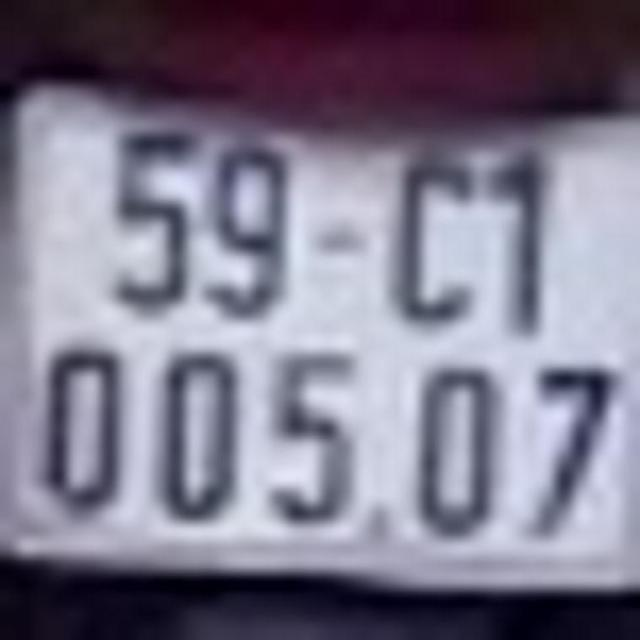0: (152, 342, 246, 535), (43, 338, 129, 521), (418, 368, 496, 538)
1: (488, 140, 554, 340)
5: (274, 353, 362, 529), (112, 130, 195, 305)
7: (520, 360, 616, 544)
9: (206, 136, 294, 322)
C: (388, 136, 480, 330)
